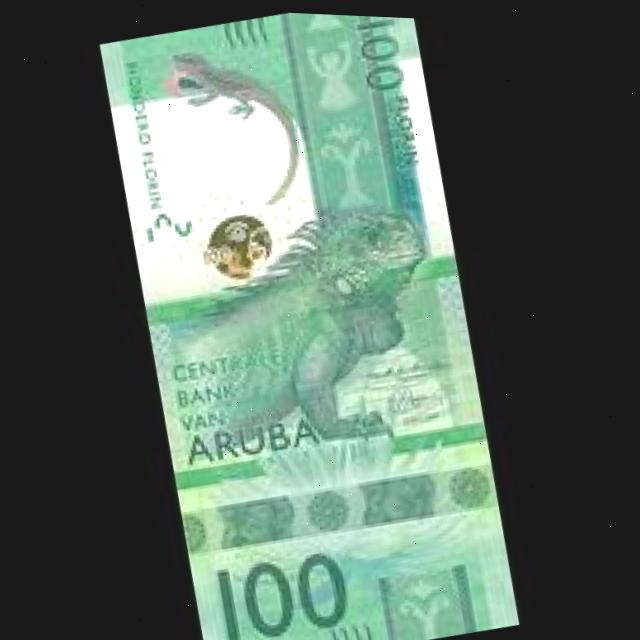banknote: (78, 3, 542, 640)
